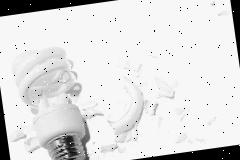lightbulb: (0, 40, 109, 160), (9, 43, 82, 112), (28, 88, 90, 160), (100, 73, 148, 144), (207, 0, 215, 6)
